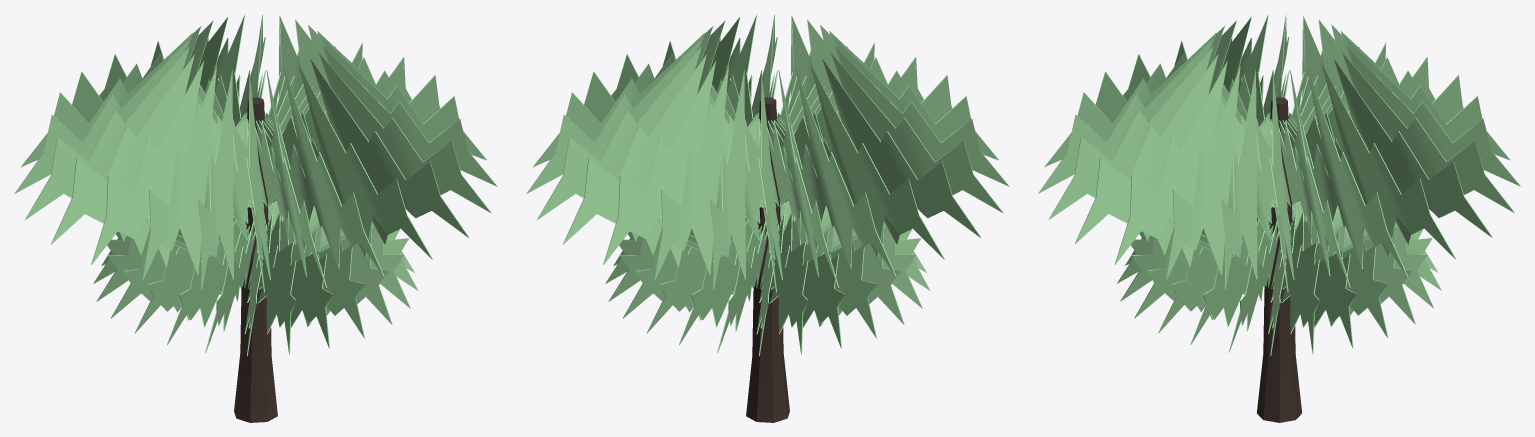
File: tree5.fbx
The picture shows the model from 3 angles, left to right: view 1: azimuth 30°, elevation 25°; view 2: azimuth 150°, elevation 25°; view 3: azimuth 270°, elevation 25°; orthographic projection.
Visible parts, largest first — view 1: polySurface1; view 2: polySurface1; view 3: polySurface1.
Part boxes in pixels (box(x1,y1,x2,y2)): polySurface1: box(14, 14, 497, 422); polySurface1: box(526, 14, 1009, 422); polySurface1: box(1038, 14, 1520, 422).
Bounding box in the file's own units: 1010 × 857 × 1010.
